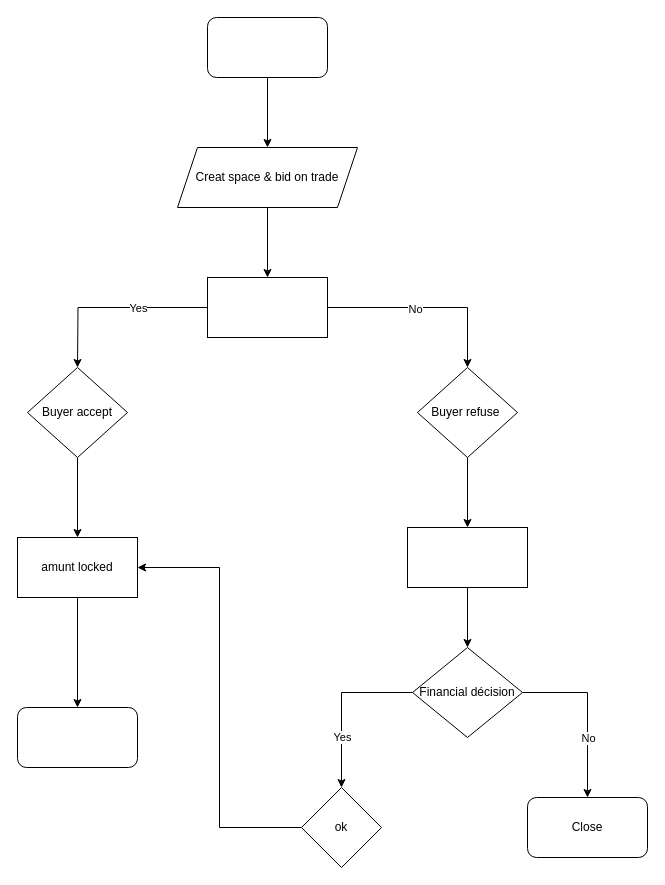
Image size: 665x885. Some labels were removed from this diagram. The shapes that lost their labels are listed below. From the top down, each one's centre as x and y in pixels, then its label:
point 267,47: Fiancier Approved
point 267,307: propose conter
point 467,557: New proposition
point 77,737: Succes
